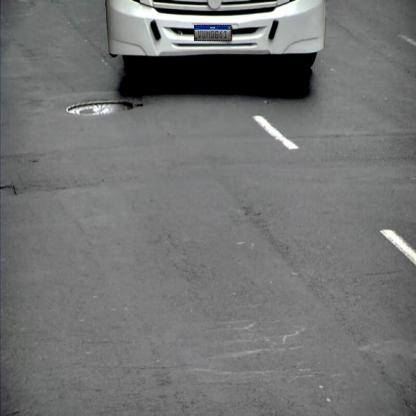PlacaM: (194, 25, 231, 41)
